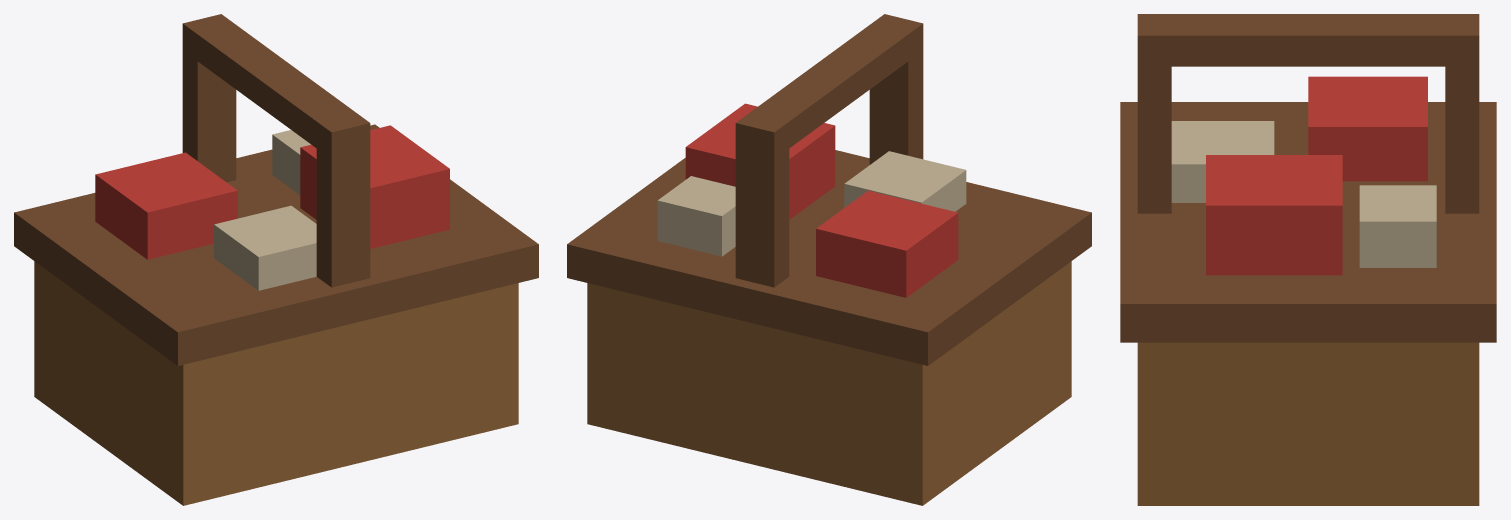
File: kr-mushroom-basket.glb
3 renders of one model, left to right at view 1: azimuth 30°, elevation 25°; view 2: azimuth 150°, elevation 25°; view 3: azimuth 270°, elevation 25°, orthographic. The views are drawn at different scales.
Visible parts, largest first — view 1: box-prop; view 2: box-prop; view 3: box-prop.
Part boxes in pixels (<box>): box-prop: <box>14,14,538,505</box>; box-prop: <box>567,14,1091,505</box>; box-prop: <box>1120,14,1496,505</box>.
Size of the model in its own units: 0.56 by 0.5 by 0.44.
